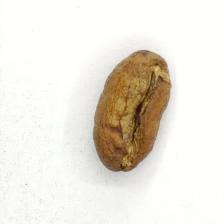NG: (107, 50, 165, 162)
